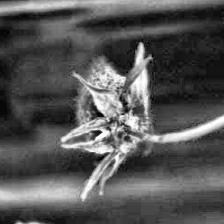Gray Mold: (60, 42, 168, 200)
